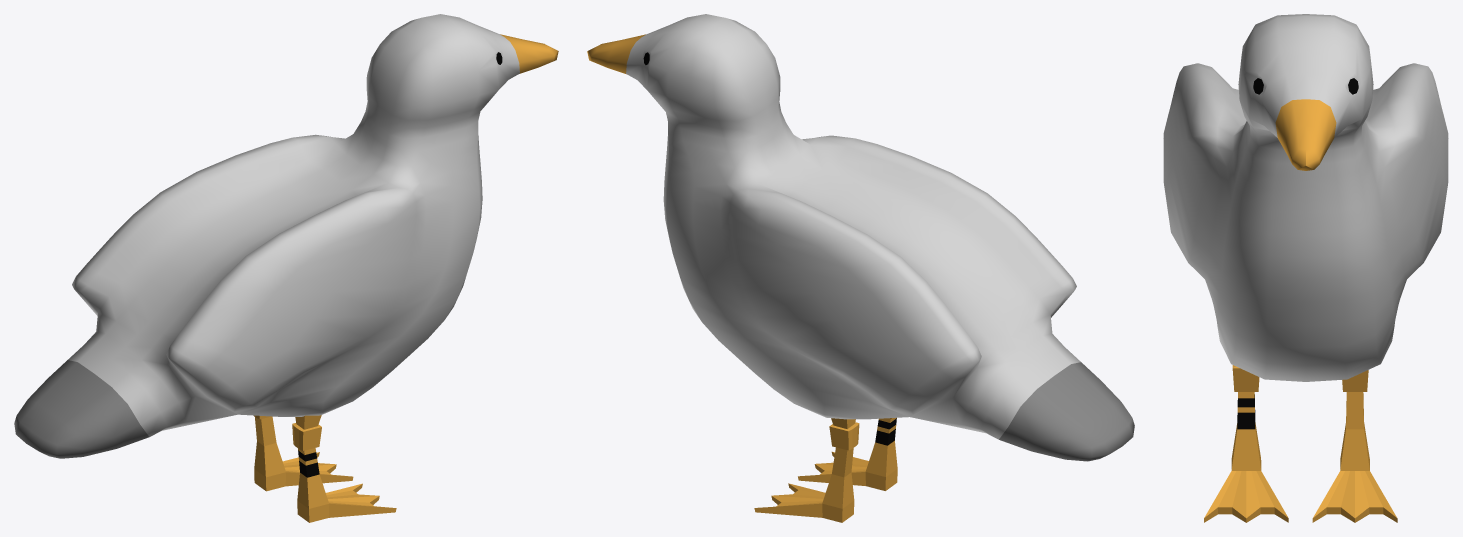
Rendered from Gaviota sergi.fbx.
3 views of the same model, side by side, from view 1: azimuth 30°, elevation 25°; view 2: azimuth 150°, elevation 25°; view 3: azimuth 270°, elevation 25° (orthographic). The views are drawn at different scales.
Parts seen in each view (by area): view 1: Cube.002; view 2: Cube.002; view 3: Cube.002.
Boxes of the visible parts, x1,y1,x2,y2 form: Cube.002: [14, 14, 558, 522]; Cube.002: [587, 14, 1134, 522]; Cube.002: [1163, 14, 1448, 522].
Size of the model in its own units: 263 by 208 by 96.69.
